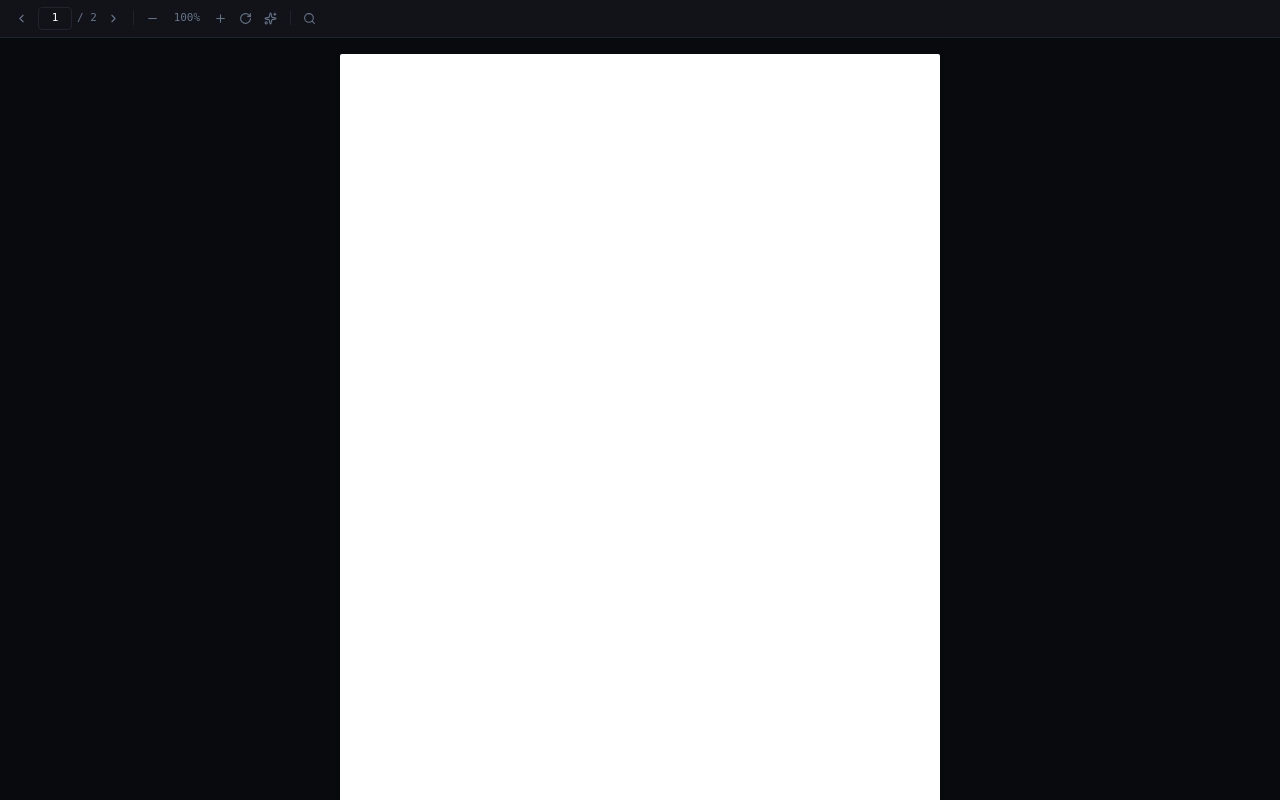
Scenario: PdfViewer › reports when nothing matches the query
Expected: the text "/ 2" is shown, [77,10,97,26]
Step 1. Click the button named "Search in document" → (310, 18), box [299,7,321,29]
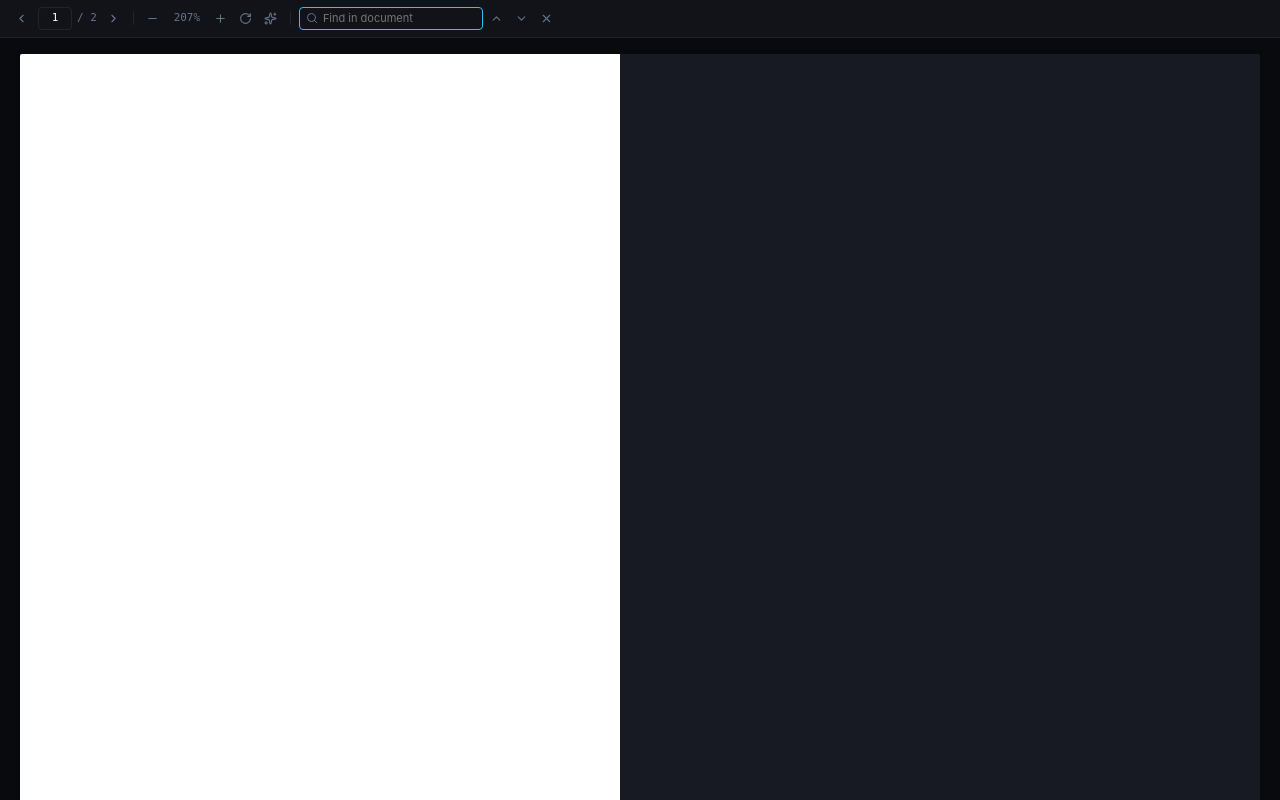
Step 2. Type "quadratic" into the field named "Search in document" → (383, 18), box [323,10,443,26]
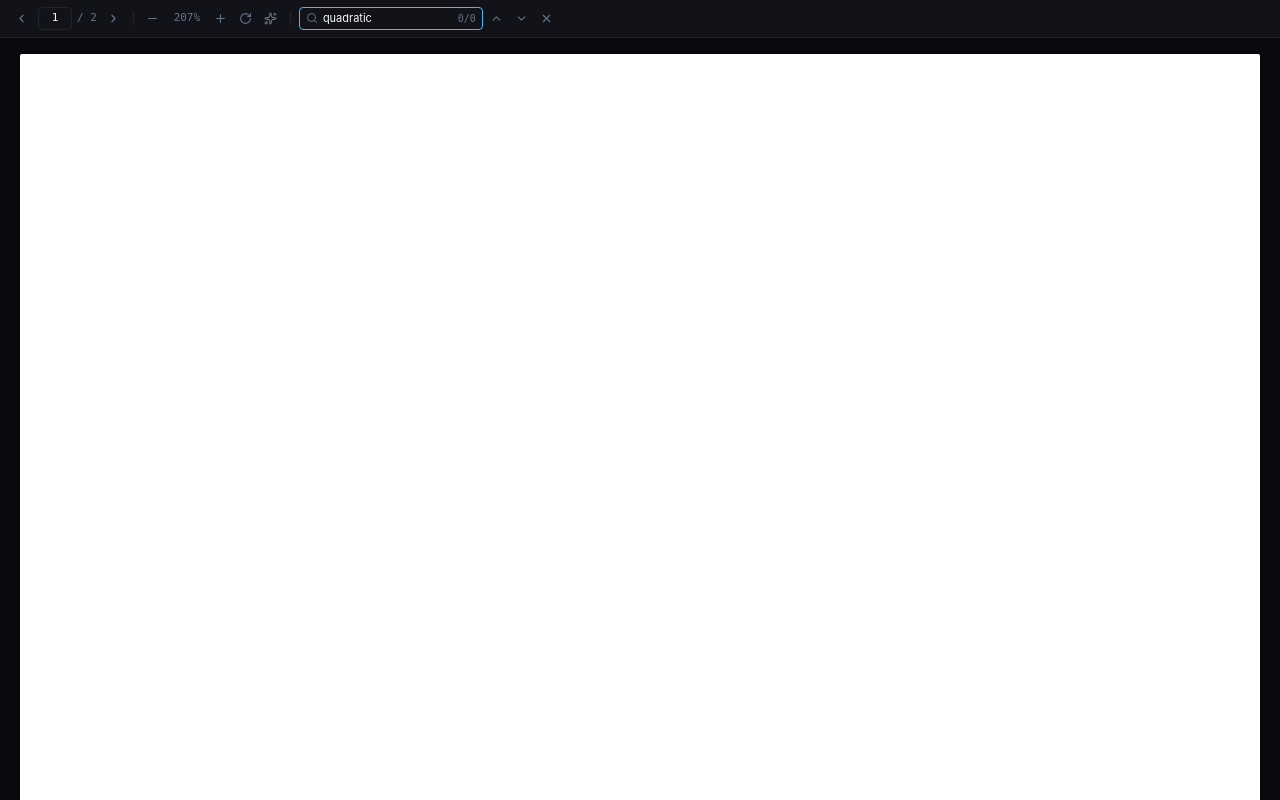
Now the button named "Next match" is disabled, box [511,7,533,29]
Now the text "0/0" is shown, box [458,13,476,24]
